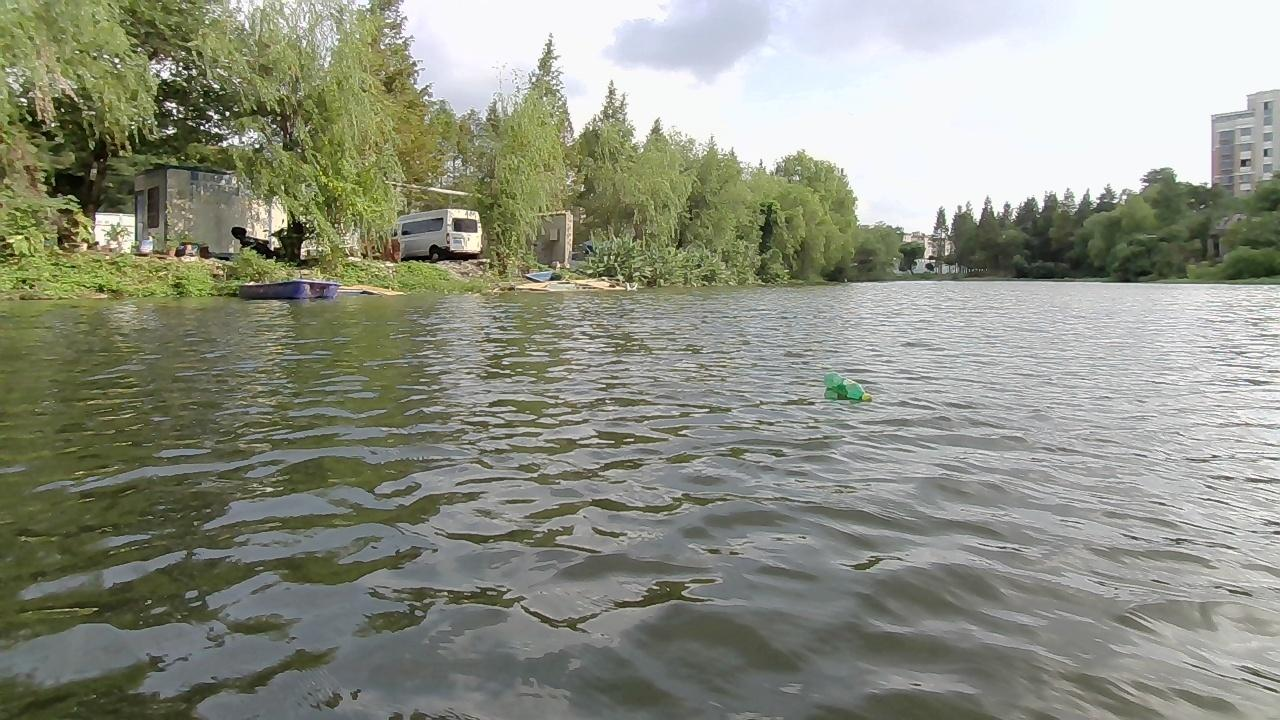bottle: (821, 369, 871, 402)
